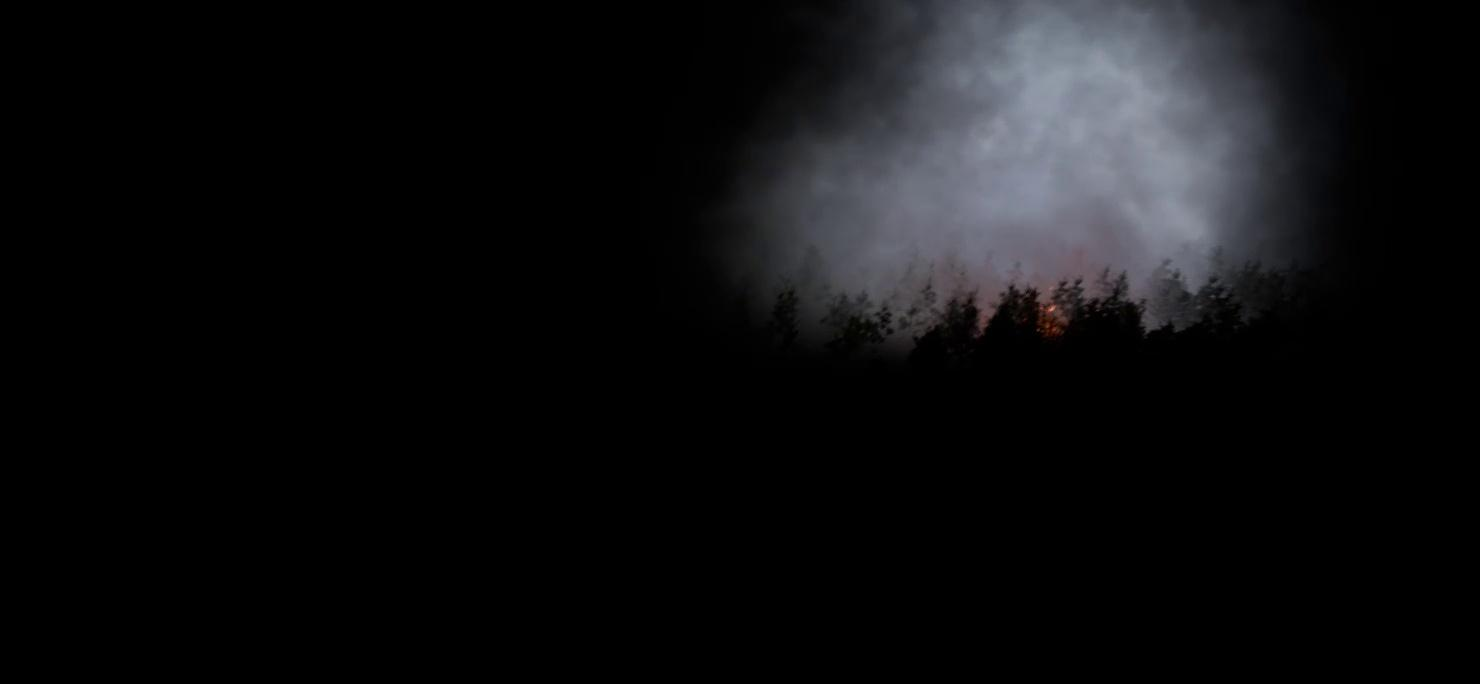smoke: (707, 0, 1337, 342)
